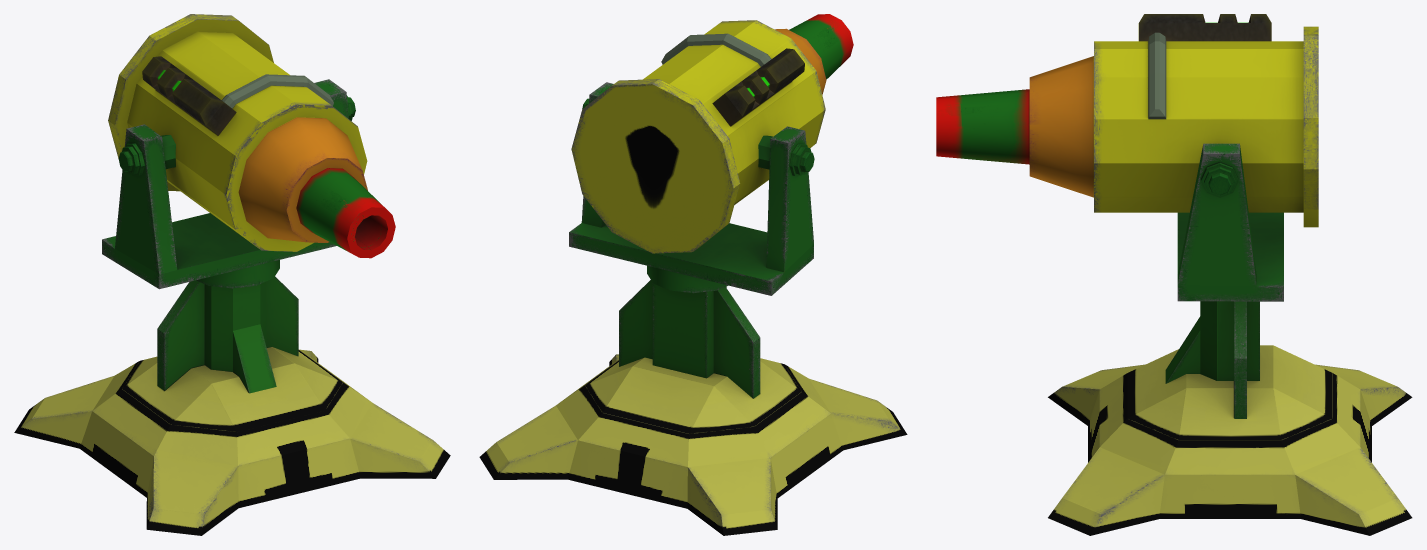
File: Turret.obj
3 renders of one model, left to right at view 1: azimuth 30°, elevation 25°; view 2: azimuth 150°, elevation 25°; view 3: azimuth 270°, elevation 25°, orthographic. The views are drawn at different scales.
Parts seen in each view (by area): view 1: Turret; view 2: Turret; view 3: Turret.
Boxes of the visible parts, x1,y1,x2,y2 form: Turret: (14, 14, 450, 535); Turret: (479, 14, 907, 535); Turret: (936, 14, 1412, 535).
Size of the model in its own units: 658 by 826 by 845.
